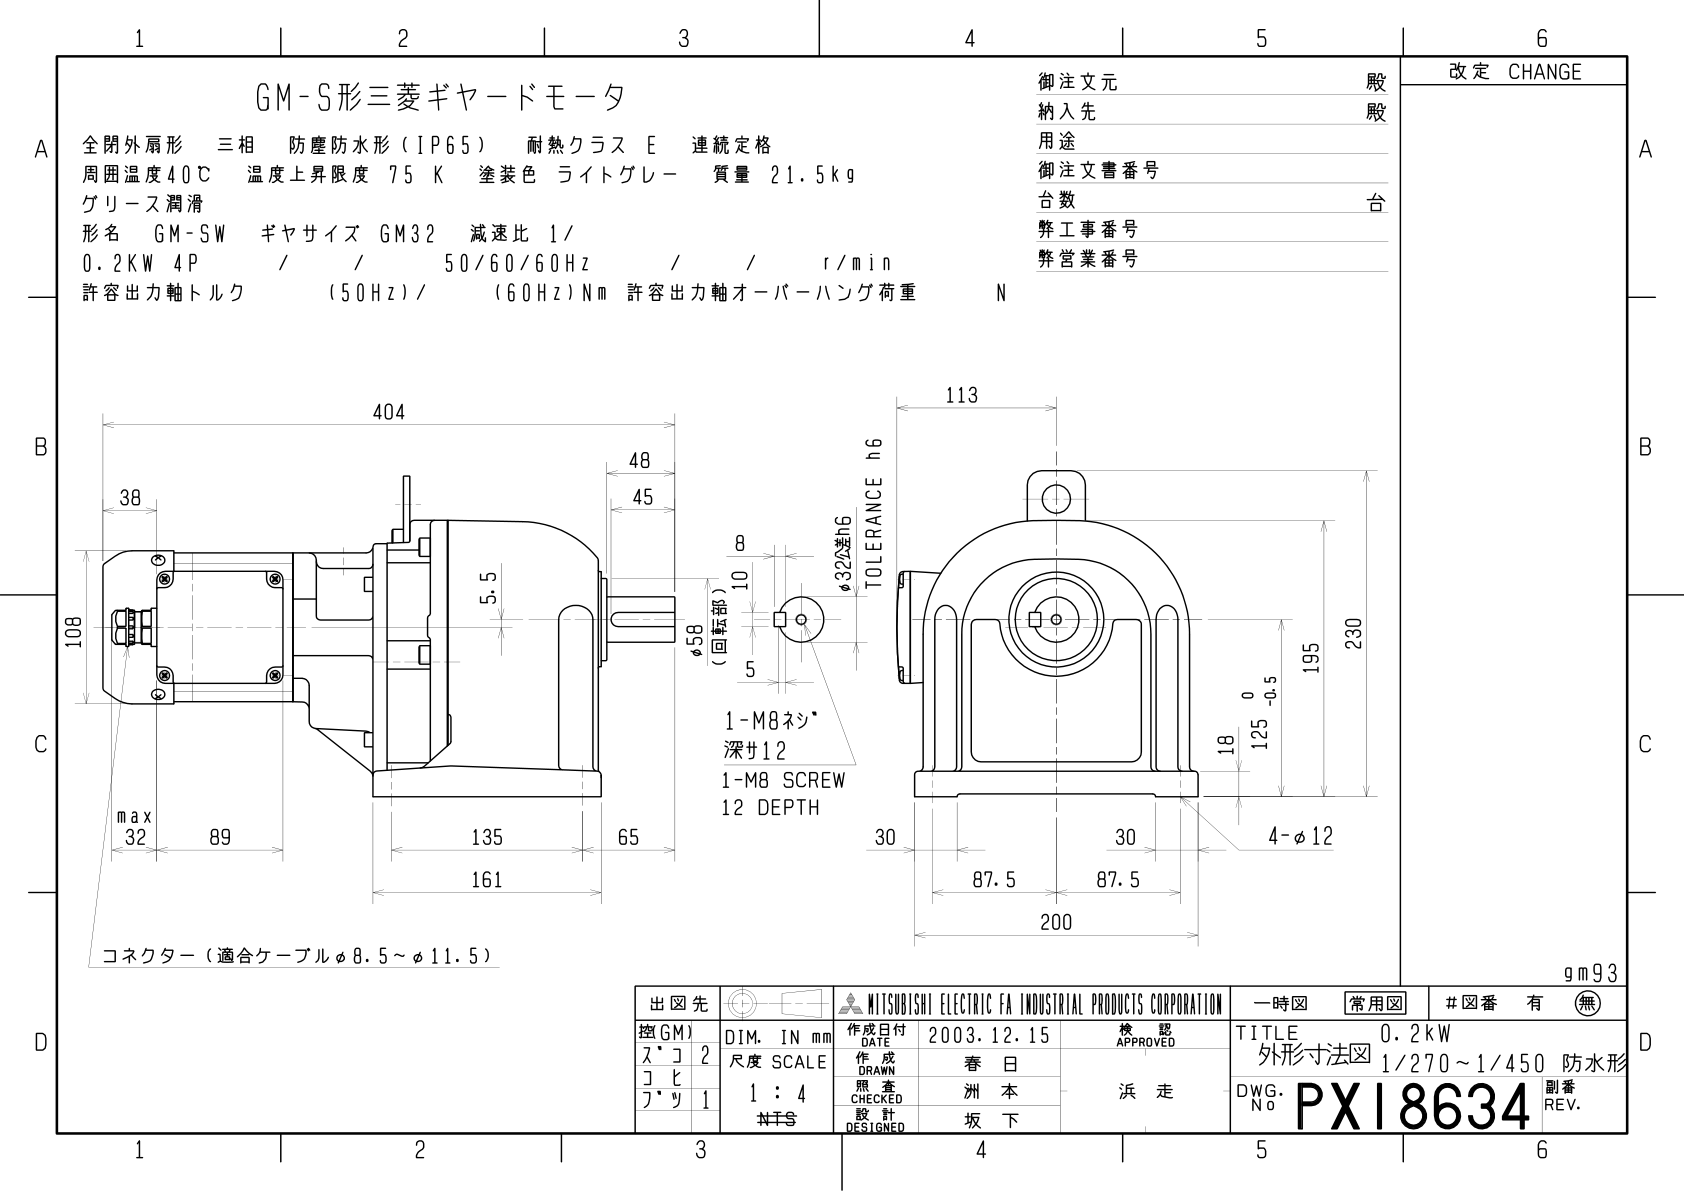GM_S_IP65＿三相_脚: (9, 10, 1684, 1191)
